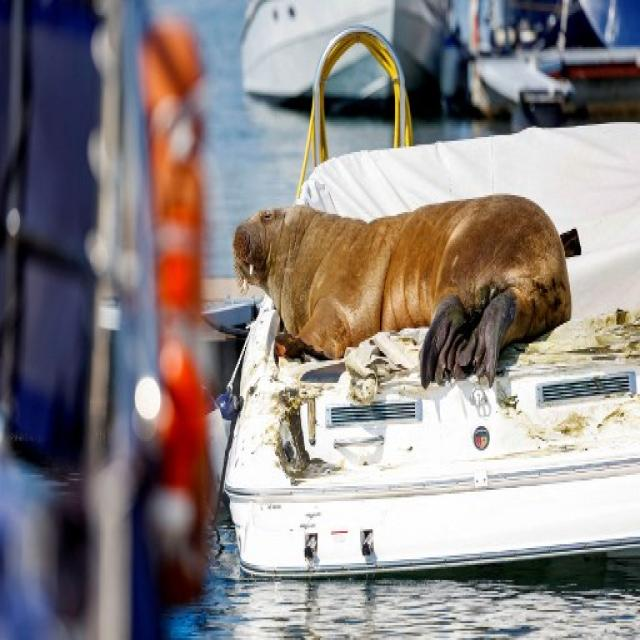walrus: (225, 188, 589, 391)
